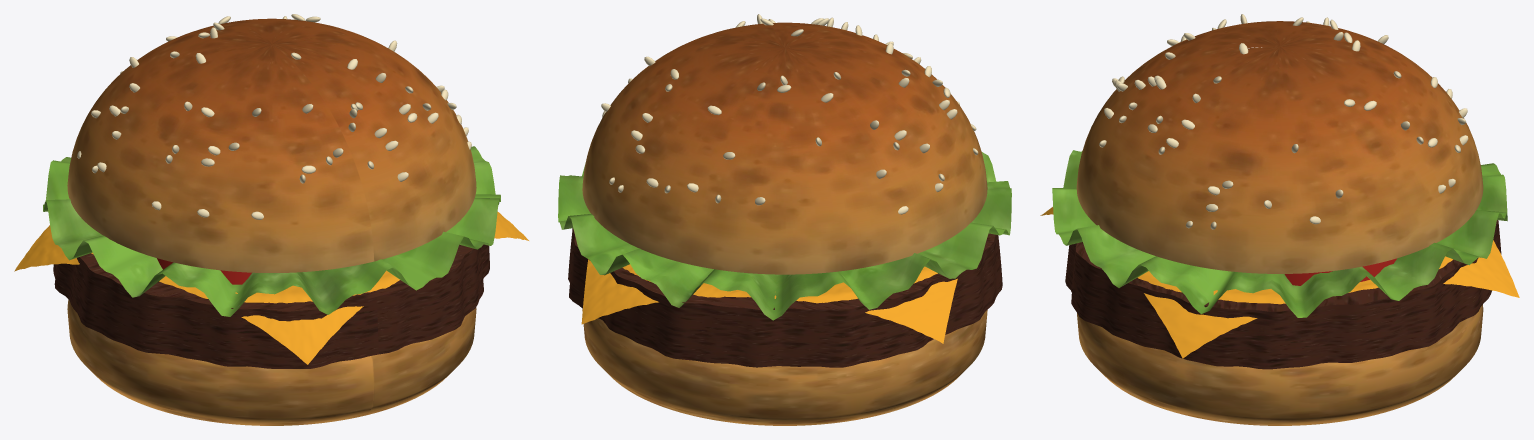
File: hamburguer.glb
3 renders of one model, left to right at view 1: azimuth 30°, elevation 25°; view 2: azimuth 150°, elevation 25°; view 3: azimuth 270°, elevation 25°, orthographic.
Bounding box in the file's own units: 0.1321 × 0.0923 × 0.1321.
Materials: 8 (5 with a texture image).
